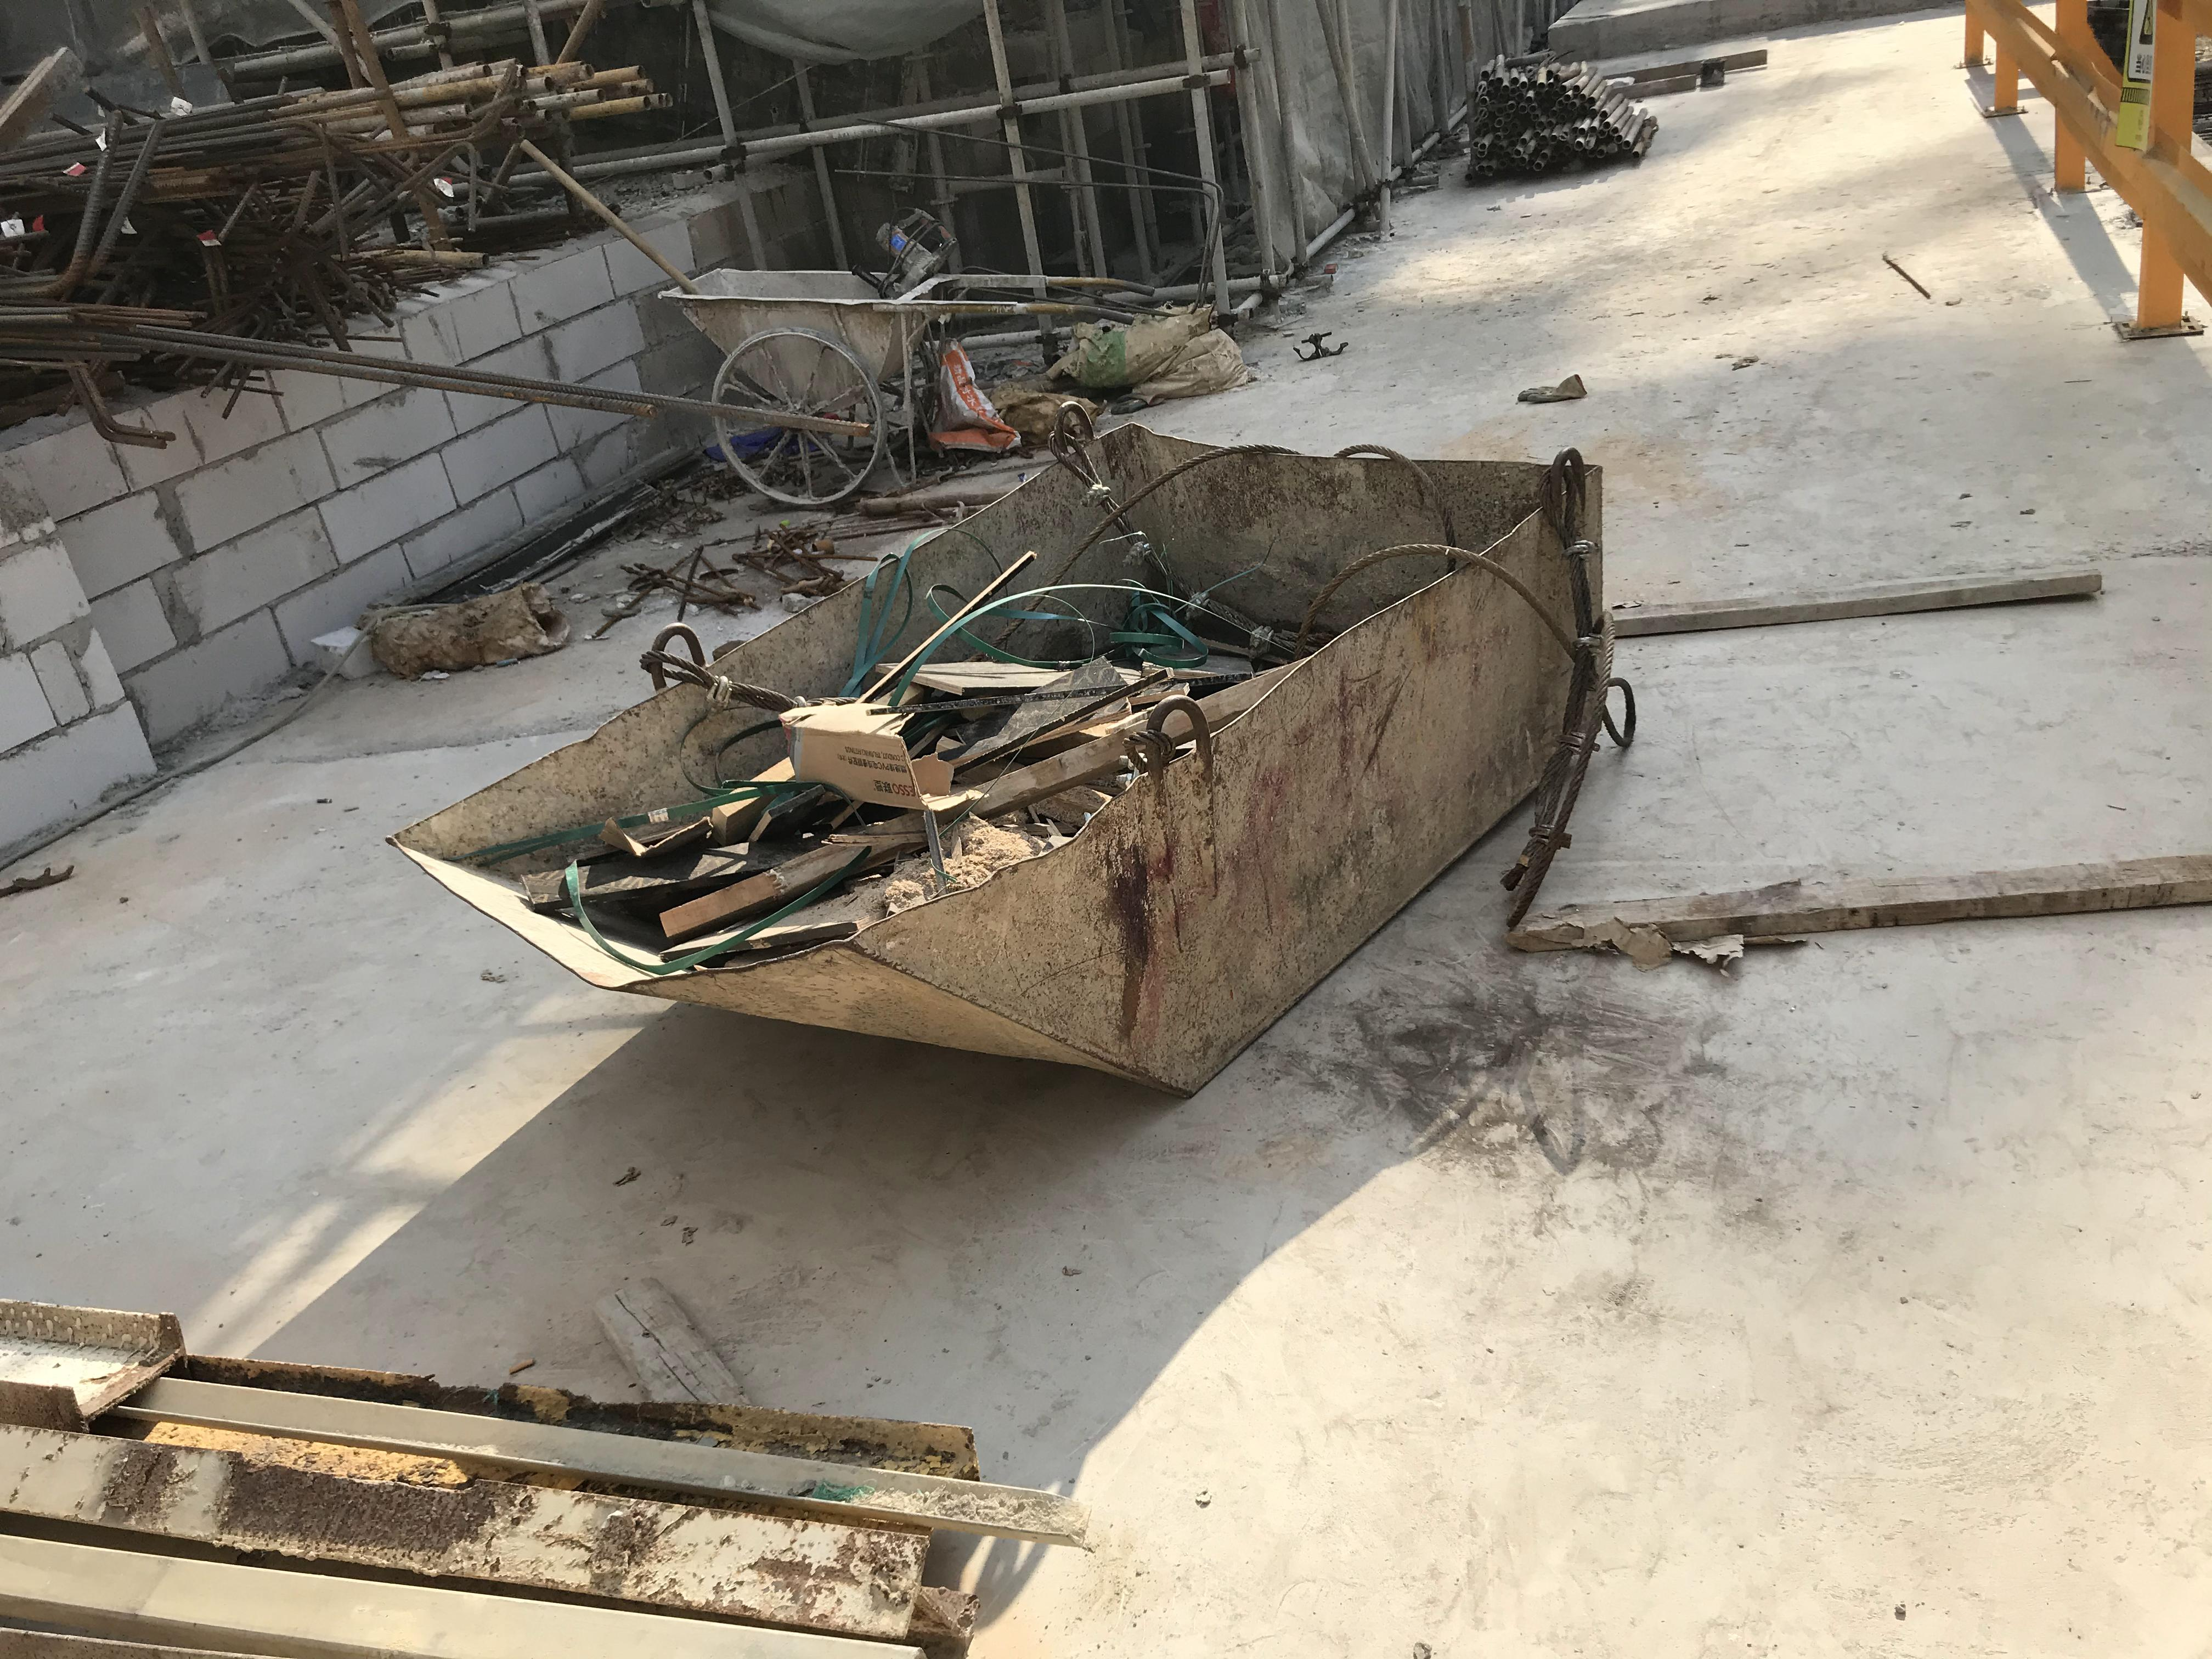handcart: (657, 251, 1163, 514)
hopper: (373, 382, 1648, 1131)
scaffold: (1472, 63, 1658, 178)
